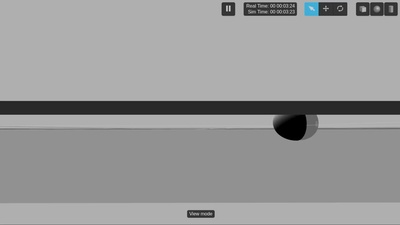mira_robot: (272, 115, 318, 141)
